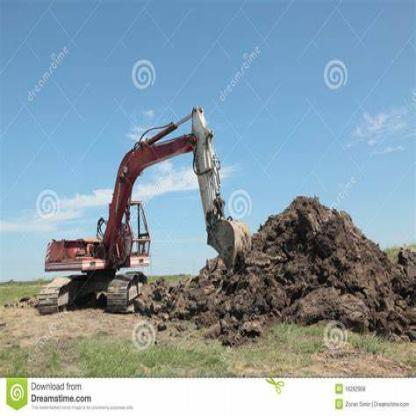excavator: (36, 90, 261, 330)
